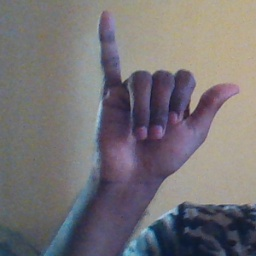J: (92, 9, 241, 180)
